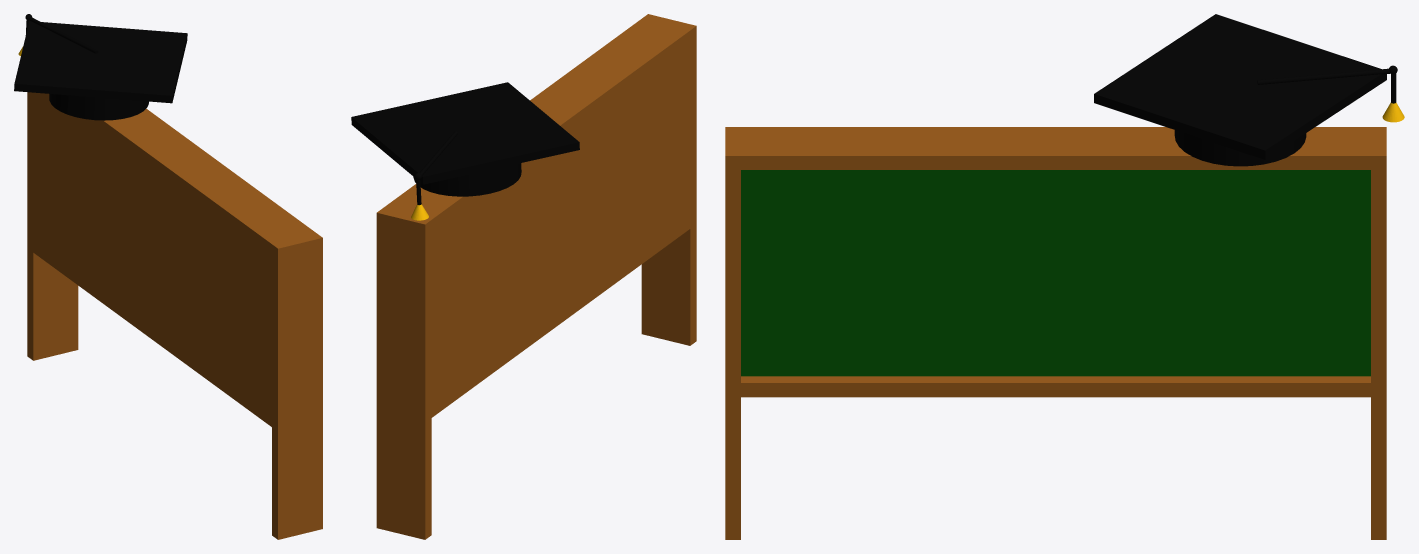
Rendered from board.glb.
3 views of the same model, side by side, from view 1: azimuth 30°, elevation 25°; view 2: azimuth 150°, elevation 25°; view 3: azimuth 270°, elevation 25° (orthographic). The views are drawn at different scales.
Parts seen in each view (by area): view 1: 실린더.002; view 2: 실린더.002; view 3: 실린더.002.
Boxes of the visible parts, x1,y1,x2,y2 form: 실린더.002: (14,14,322,539); 실린더.002: (351,14,696,539); 실린더.002: (725,14,1404,539).
Size of the model in its own units: 5.58 by 9.41 by 12.94.
